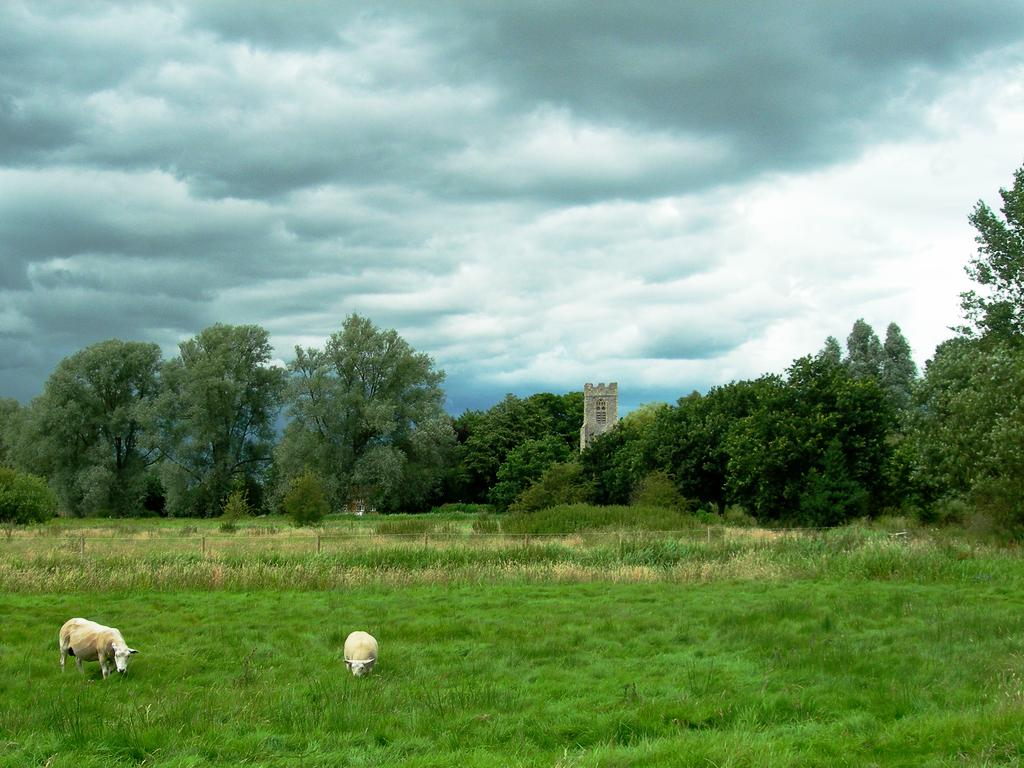Sheep: (38, 617, 136, 689), (346, 633, 380, 678)
